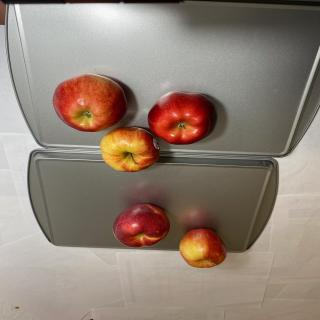Apple: (52, 73, 127, 132), (148, 91, 218, 145), (100, 126, 160, 172), (113, 203, 170, 248), (179, 228, 227, 268)
